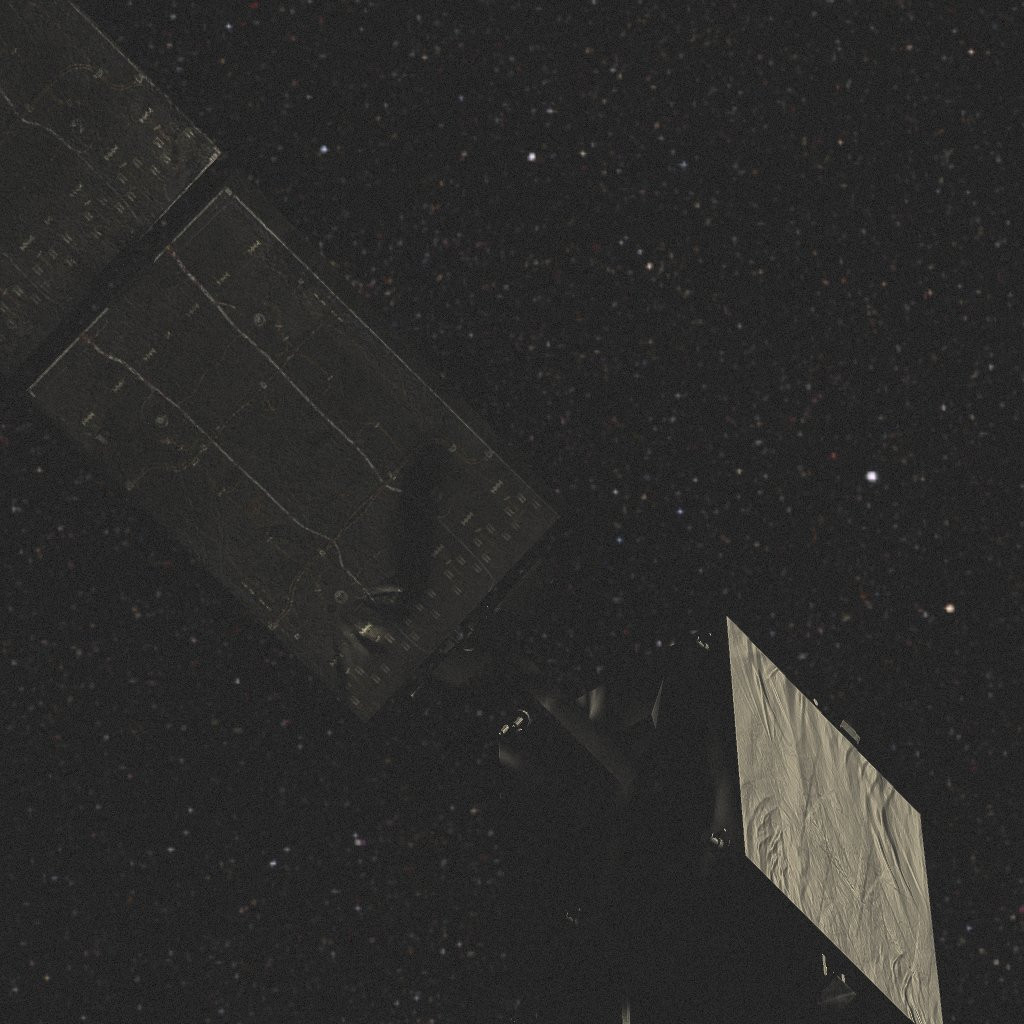smart_1: (0, 0, 943, 1024)
